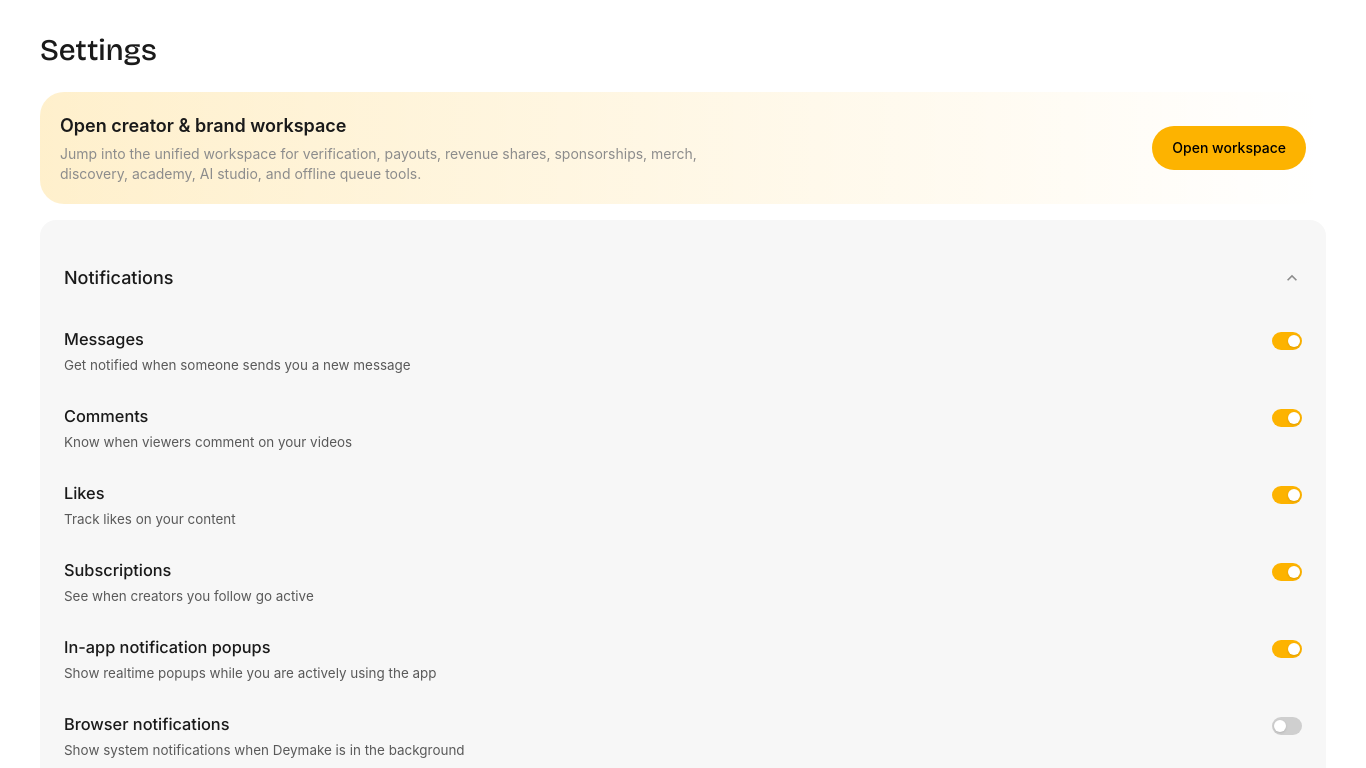
Test: Settings › shows an error and does not persist when browser notifications are unsupported
The image size is (1366, 768).
Click the switch in the row of "Browser notifications" at (1287, 726), box [1272,717,1302,735]
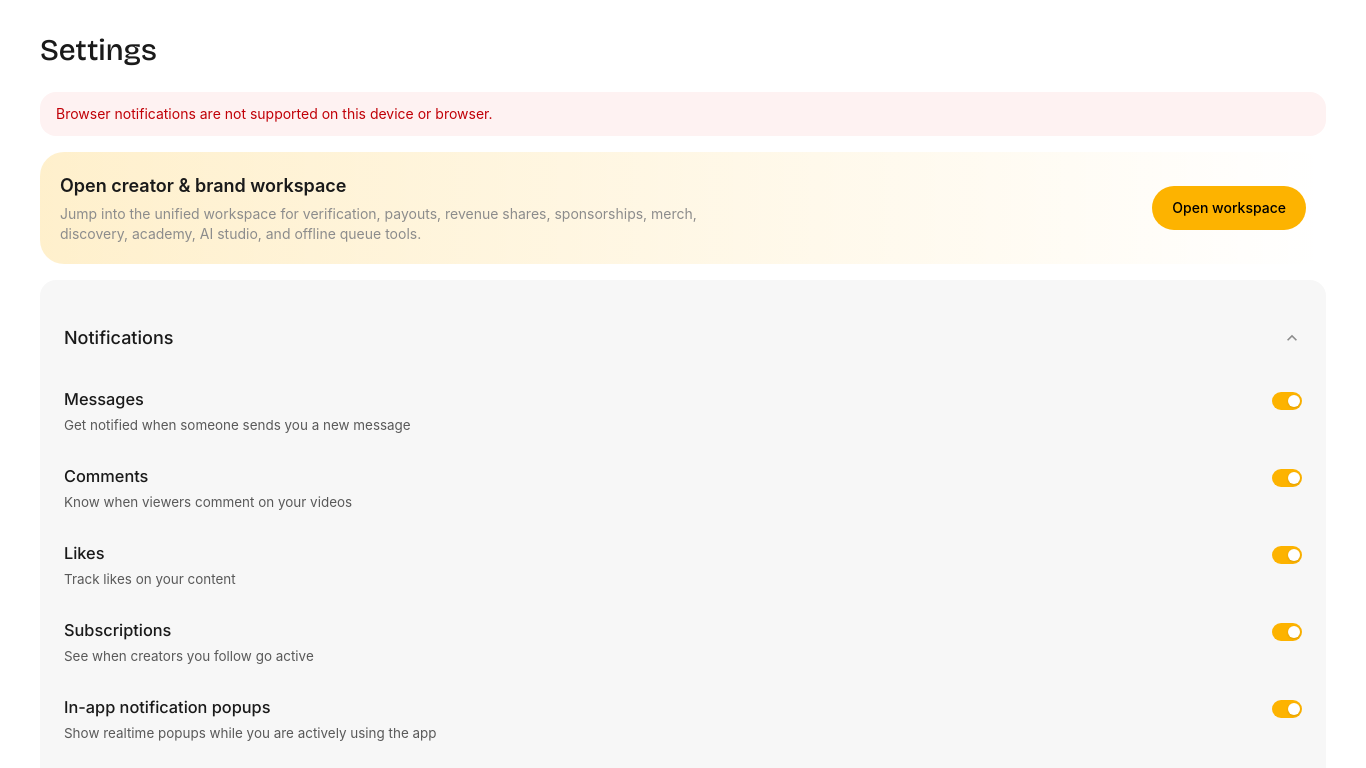
Expected: the text "Browser notifications are not supported on this device or browser." is shown, [40,92,1326,136]
